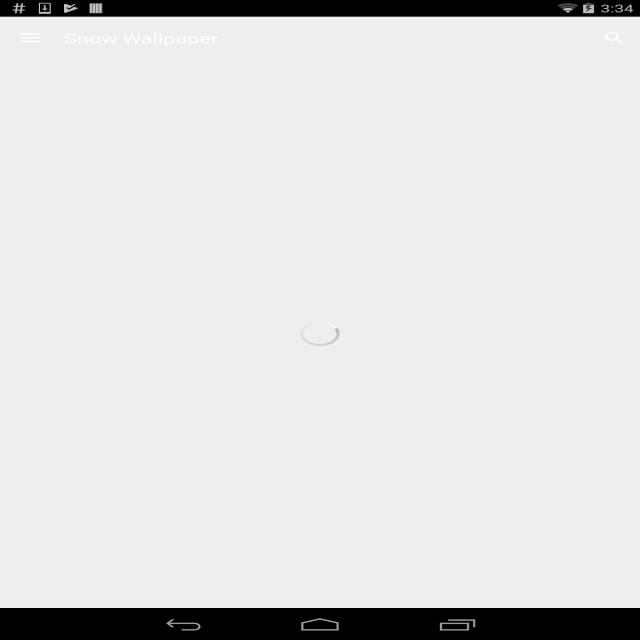button: (13, 29, 45, 50)
heading: (64, 30, 227, 51)
